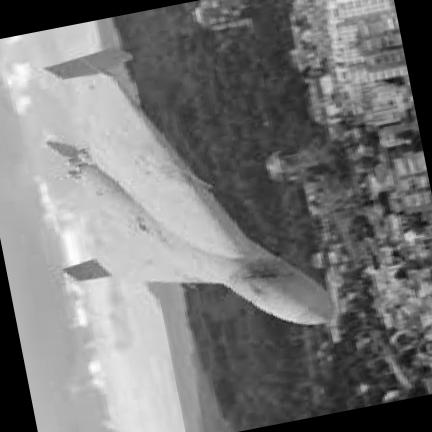Shahed: (44, 47, 336, 325)
